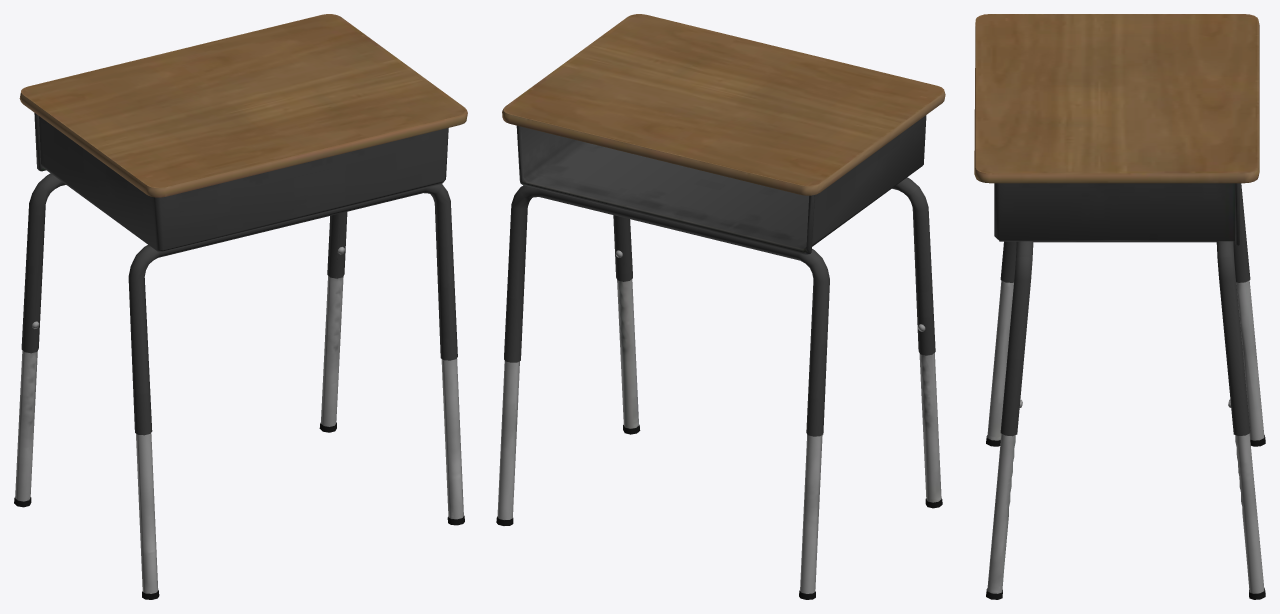
File: SchoolDesk_01.glb
3 renders of one model, left to right at view 1: azimuth 30°, elevation 25°; view 2: azimuth 150°, elevation 25°; view 3: azimuth 270°, elevation 25°, orthographic. The views are drawn at different scales.
Visible parts, largest first — view 1: SchoolDesk_01; view 2: SchoolDesk_01; view 3: SchoolDesk_01.
Boxes of the visible parts, <box> form: SchoolDesk_01: <box>14,14,467,599</box>; SchoolDesk_01: <box>496,14,945,599</box>; SchoolDesk_01: <box>974,14,1265,599</box>.
Size of the model in its own units: 0.7118 by 0.8826 by 0.546.
1 material, 1 textured.
